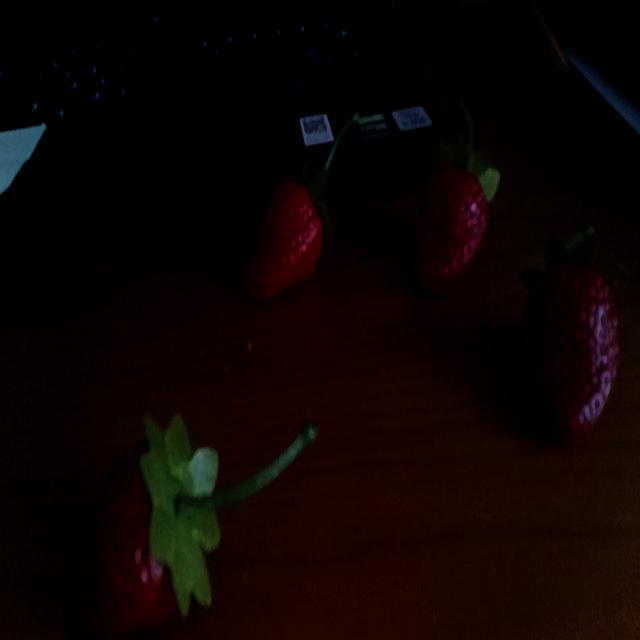ripe: (54, 417, 214, 640), (511, 248, 624, 450), (240, 170, 332, 311), (408, 155, 494, 305)
